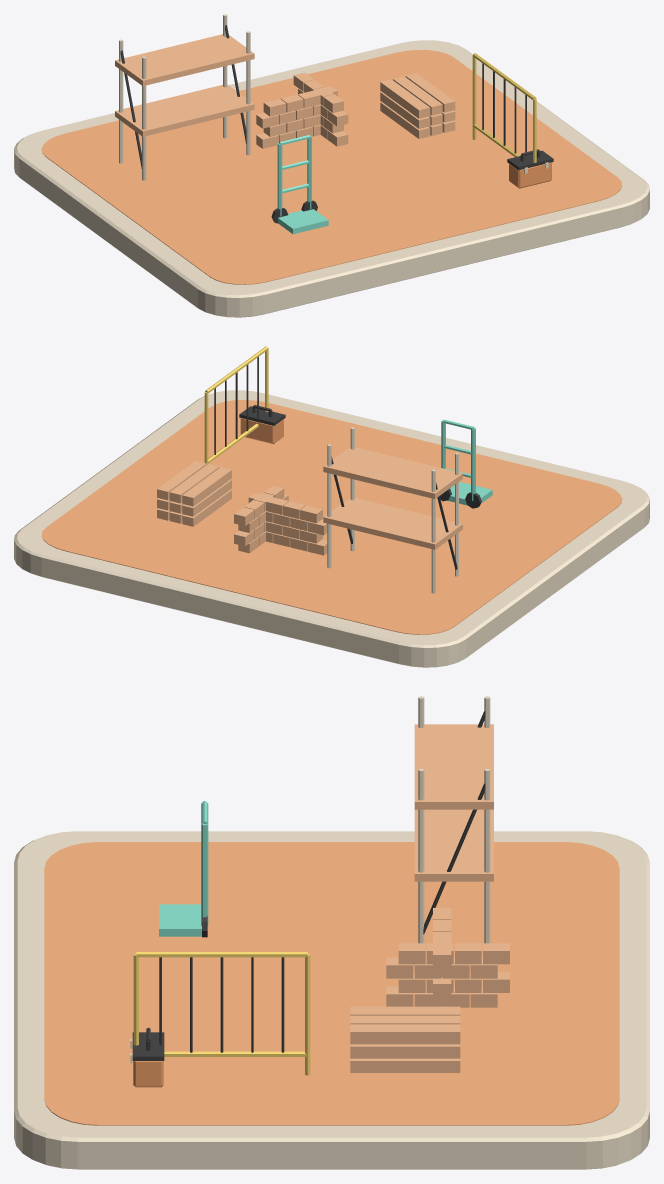
Rendered from room.fbx.
3 views of the same model, one above another, from view 1: azimuth 30°, elevation 25°; view 2: azimuth 150°, elevation 25°; view 3: azimuth 270°, elevation 25° (orthographic). The views are drawn at different scales.
Visible parts, largest first — view 1: COM-02 Floor Surface, COM-01 Rounded Base Direct, Platform.001, Platform, Timber.006, Loading plate, Box, Timber.008, Timber.007, Upright.002, Upright, Timber.003 (+3 smaller); view 2: COM-02 Floor Surface, COM-01 Rounded Base Direct, Platform.001, Platform, Timber.006, Box, Timber.007, Timber.008, Upright.001, Upright.003, Timber, Timber.003 (+2 smaller); view 3: COM-02 Floor Surface, COM-01 Rounded Base Direct, Platform.001, Platform, Timber.008, Timber.005, Timber.002, Loading plate, Timber.006, Timber.007, Upright.003, Upright.002 (+6 smaller).
Boxes of the visible parts, <box> form: COM-02 Floor Surface: <box>41,50,622,284</box>; COM-01 Rounded Base Direct: <box>14,40,649,317</box>; Platform.001: <box>115,34,254,86</box>; Platform: <box>115,84,254,136</box>; Timber.006: <box>380,79,430,118</box>; Loading plate: <box>278,209,328,234</box>; Box: <box>509,162,551,188</box>; Timber.008: <box>405,73,455,112</box>; Timber.007: <box>393,76,442,115</box>; Upright.002: <box>246,31,250,155</box>; Upright: <box>142,56,146,180</box>; Timber.003: <box>380,92,430,128</box>; COM-02 Floor Surface: <box>41,400,622,634</box>; COM-01 Rounded Base Direct: <box>14,390,649,667</box>; Platform.001: <box>323,447,462,498</box>; Platform: <box>323,497,462,549</box>; Timber.006: <box>182,467,231,506</box>; Box: <box>240,418,283,444</box>; Timber.007: <box>169,464,219,503</box>; Timber.008: <box>157,461,206,500</box>; Upright.001: <box>431,469,435,593</box>; Upright.003: <box>327,444,331,568</box>; Timber: <box>182,489,231,526</box>; Timber.003: <box>182,479,231,516</box>; COM-02 Floor Surface: <box>44,842,619,1125</box>; COM-01 Rounded Base Direct: <box>14,831,649,1169</box>; Platform.001: <box>414,724,493,809</box>; Platform: <box>414,809,493,881</box>; Timber.008: <box>350,1024,460,1044</box>; Timber.005: <box>350,1044,460,1058</box>; Timber.002: <box>350,1058,460,1072</box>; Loading plate: <box>159,904,201,936</box>; Timber.006: <box>350,1006,460,1015</box>; Timber.007: <box>350,1015,460,1024</box>; Upright.003: <box>484,769,490,943</box>; Upright.002: <box>418,769,424,943</box>.
Size of the model in its own units: 600 by 190 by 520.
